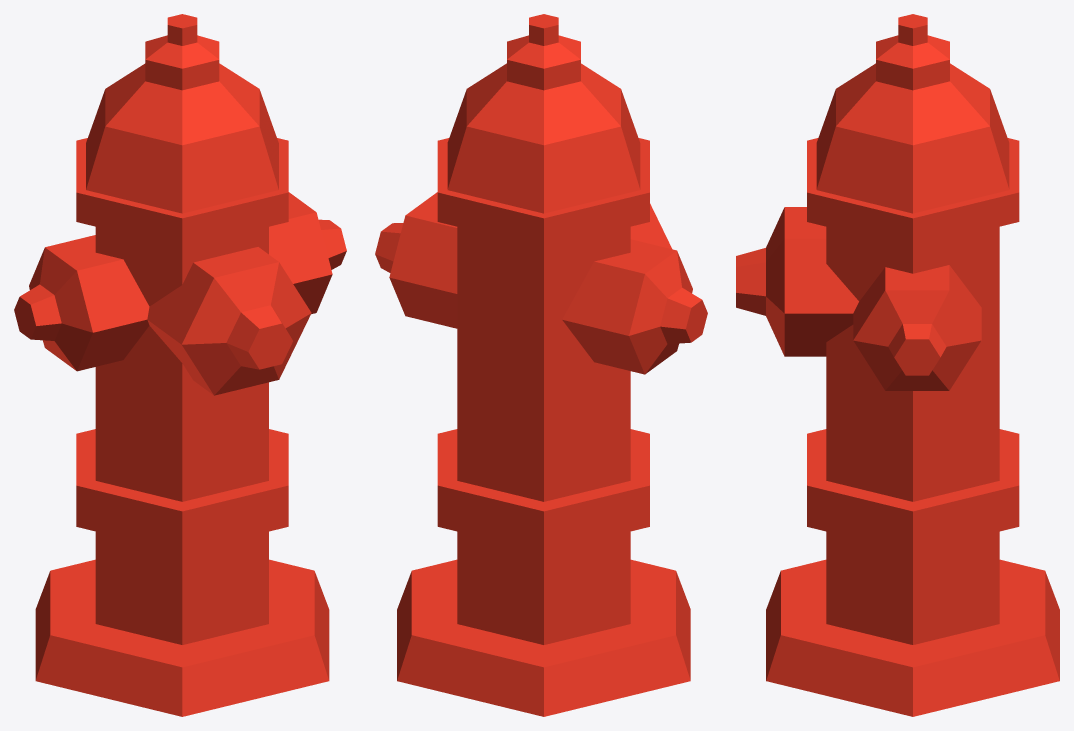
The model's file is Hydrant.fbx.
3 views of the same model, side by side, from view 1: azimuth 30°, elevation 25°; view 2: azimuth 150°, elevation 25°; view 3: azimuth 270°, elevation 25° (orthographic).
Visible parts, largest first — view 1: Hydrant; view 2: Hydrant; view 3: Hydrant.
Part boxes in pixels (box(x1,y1,x2,y2)): Hydrant: box(14, 14, 346, 716); Hydrant: box(375, 14, 707, 716); Hydrant: box(736, 14, 1059, 716).
Size of the model in its own units: 55.84 by 107 by 50.46.
Materials: 1 (1 with a texture image).
